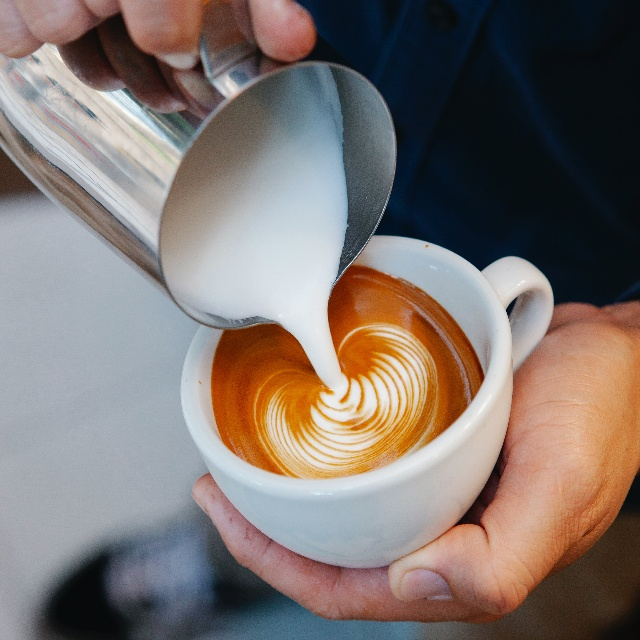Sin_guantes: (191, 302, 640, 625), (0, 0, 317, 62)
